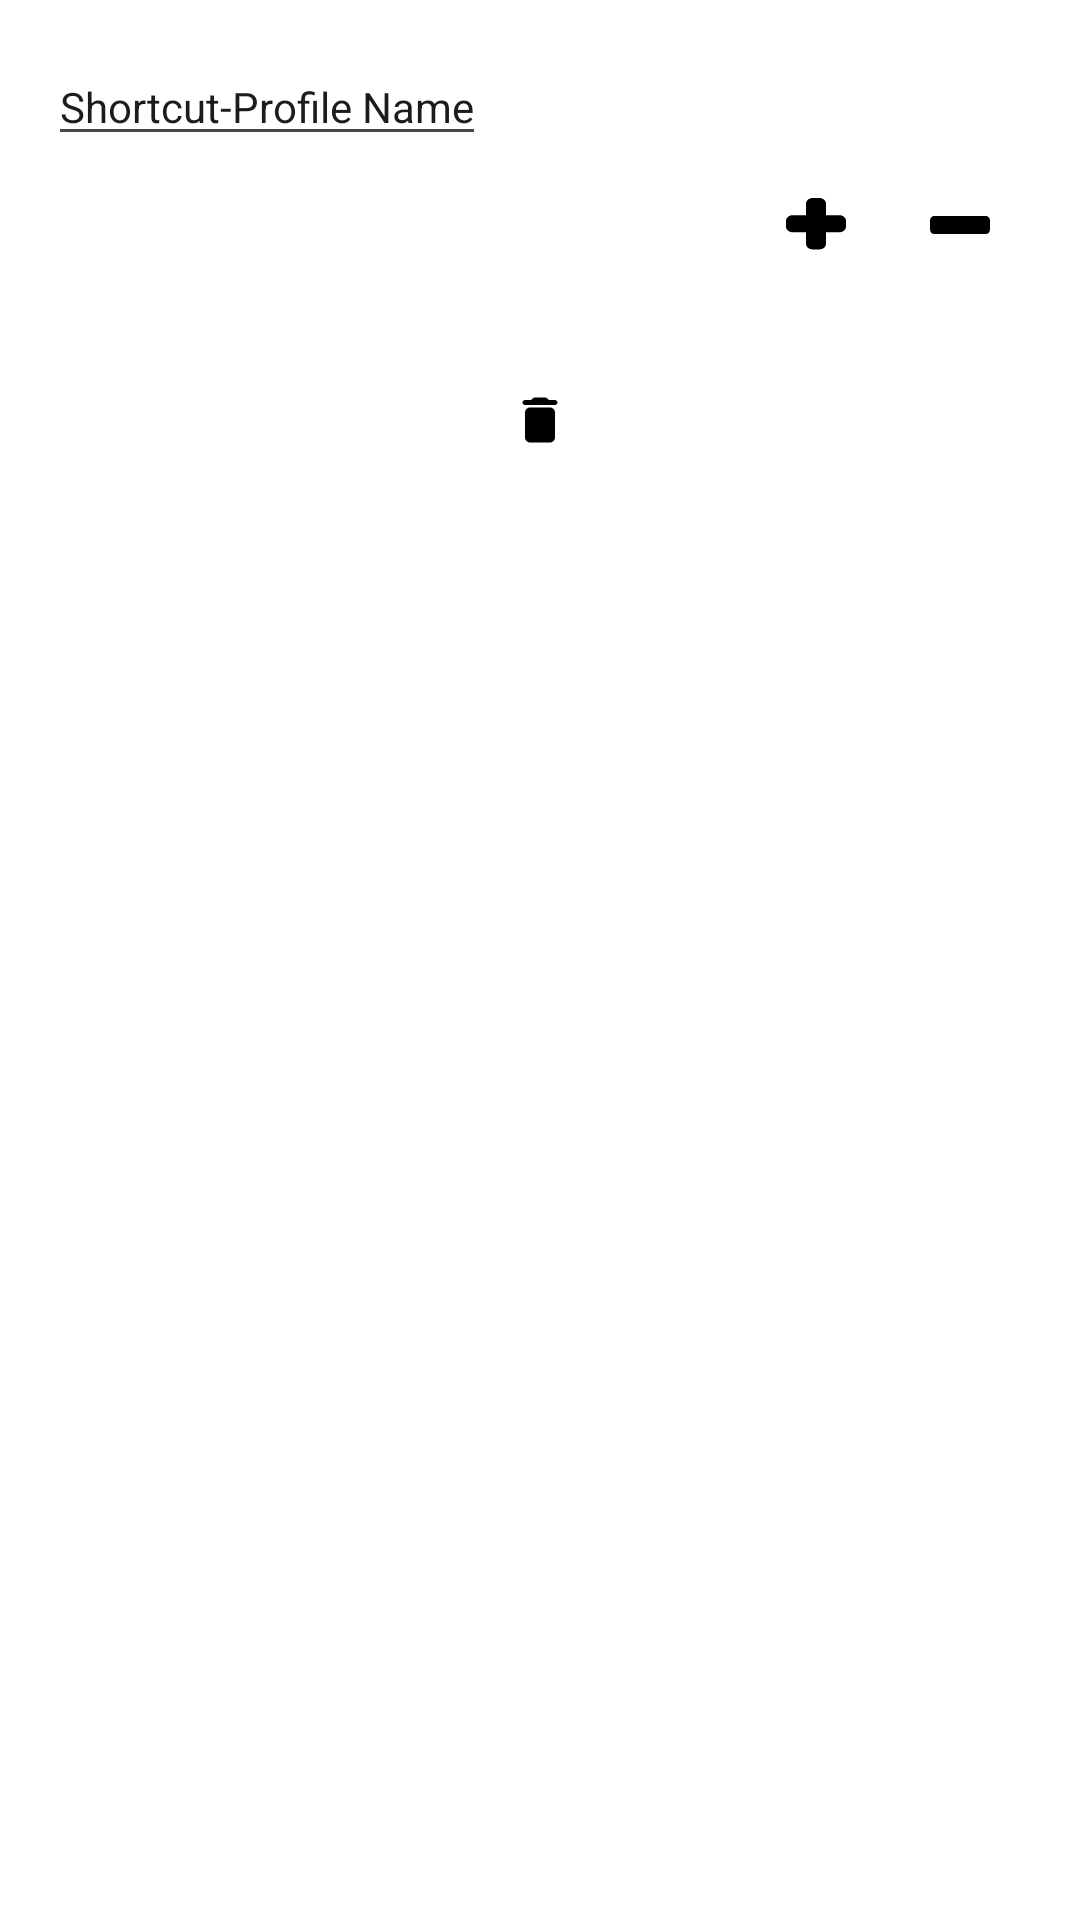

Screen size 1080*1920. Icon name, then its box in pixels as [left=x1, top=y1, right=x2, bottom=y2]:
delete: [left=522, top=397, right=558, bottom=443]
minus: [left=930, top=216, right=990, bottom=234]
plus: [left=786, top=198, right=846, bottom=250]
